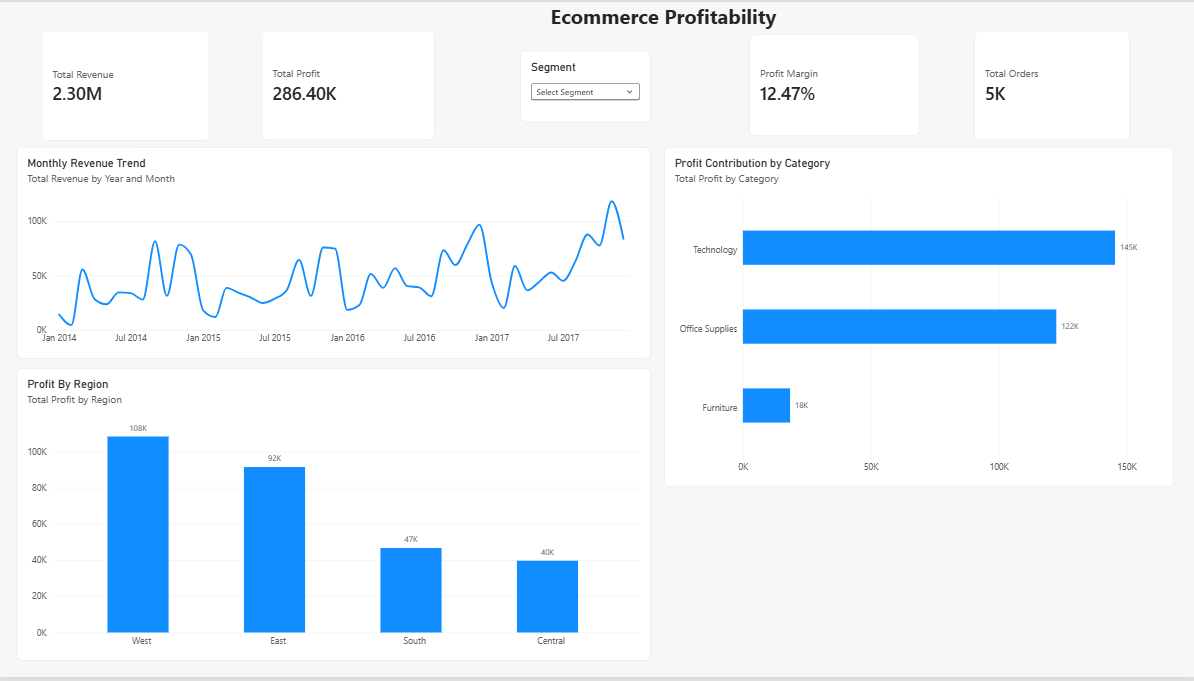

This screenshot's page, from the dashboard's own definition file:
{"tool":"powerbi","page":{"name":"executive overview","canvas":[1920,1080],"ordinal":0},"visuals":[{"type":"cardVisual","fields":{"Data":["public sample.Total Revenue"]},"box":[70,46,268,176],"z":0},{"type":"cardVisual","fields":{"Data":["public sample.Total Profit"]},"box":[422,46,277.5,175],"z":1000},{"type":"cardVisual","fields":{"Data":["public sample.Profit Margin"]},"box":[1202,52,272,162],"z":2000},{"type":"cardVisual","fields":{"Data":["public sample.Total Orders"]},"box":[1562,46,250,175.9],"z":3000},{"type":"textbox","box":[93,250.5,268,175],"z":4000},{"type":"textbox","box":[884,0,454,70],"z":5000},{"type":"lineChart","title":"Monthly Revenue Trend","fields":{"Category":["public sample.Order Date.Variation.Date Hierarchy.Year","public sample.Order Date.Variation.Date Hierarchy.Month"],"Y":["public sample.Total Revenue"]},"box":[30,232,1014,338],"z":6000},{"type":"clusteredBarChart","title":"Profit Contribution by Category","fields":{"Category":["public sample.Category"],"Y":["public sample.Total Profit"]},"box":[1066,232,814,544],"z":7000},{"type":"clusteredColumnChart","title":"Profit By Region","fields":{"Category":["public sample.Region"],"Y":["public sample.Total Profit"]},"box":[30,586,1014,468],"z":8000},{"type":"listSlicer","fields":{"Values":["public sample.Segment"]},"box":[836,78,208,114],"z":9000}]}

Visuals, with their boxes in screenshot pixels (x1, y1, x2, y2), scaled from the page's 1920x1080 canvas onto the 1194x681 screenshot:
cardVisual - public sample.Total Revenue: <region>44, 29, 210, 140</region>
cardVisual - public sample.Total Profit: <region>262, 29, 435, 139</region>
cardVisual - public sample.Profit Margin: <region>747, 33, 917, 135</region>
cardVisual - public sample.Total Orders: <region>971, 29, 1127, 140</region>
textbox: <region>58, 158, 224, 268</region>
textbox: <region>550, 0, 832, 44</region>
"Monthly Revenue Trend" lineChart: <region>19, 146, 649, 359</region>
"Profit Contribution by Category" clusteredBarChart: <region>663, 146, 1169, 489</region>
"Profit By Region" clusteredColumnChart: <region>19, 370, 649, 665</region>
listSlicer - public sample.Segment: <region>520, 49, 649, 121</region>
